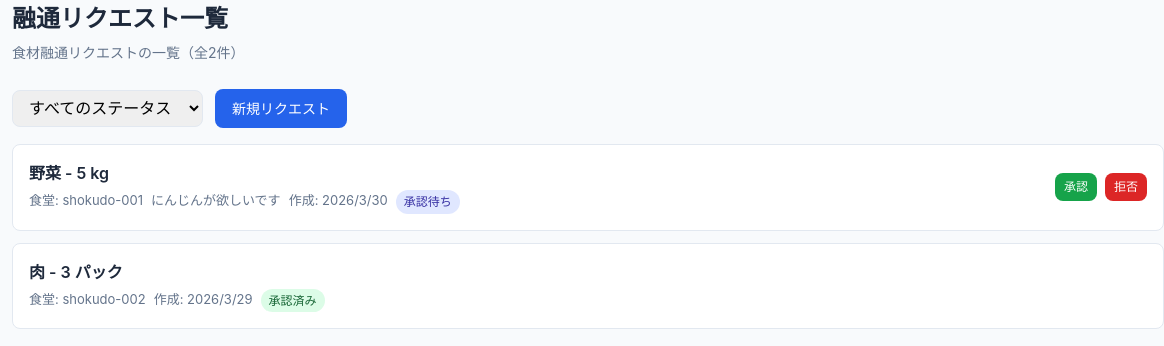
FusionRequestList › キャンセルすると操作パネルが閉じる
Click the button "拒否": (1126, 187) [1105, 173, 1147, 201]
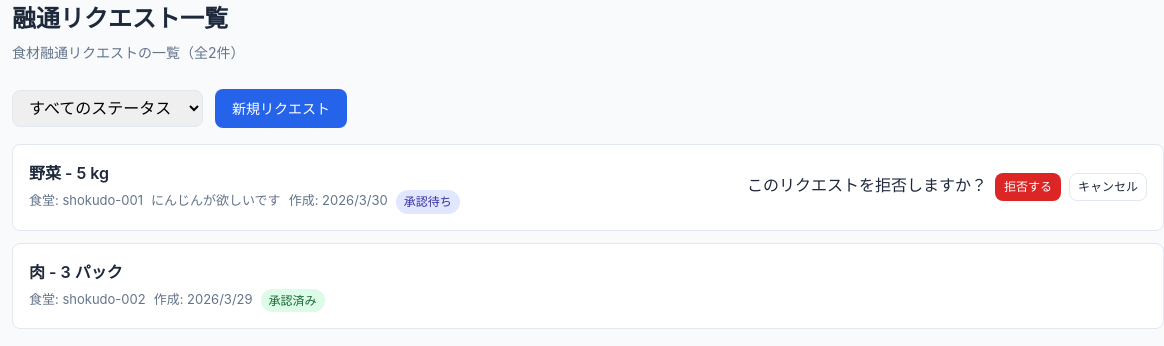
Result: the text "このリクエストを拒否しますか？" is shown at [747, 173, 987, 201]
Click the button "キャンセル": (1108, 187) [1069, 173, 1147, 201]
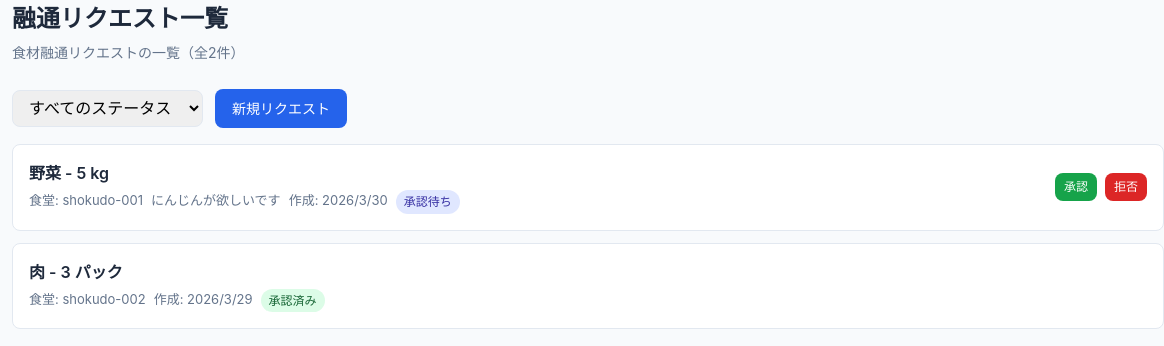
Result: the text "このリクエストを拒否しますか？" is gone
Result: the button "拒否" is shown at [1105, 173, 1147, 201]
